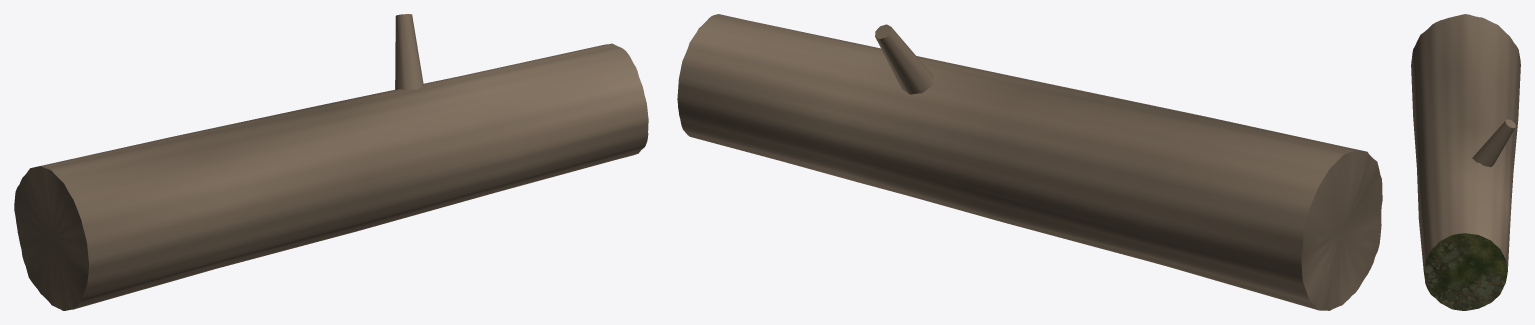
File: fallen-log-v01.glb
3 renders of one model, left to right at view 1: azimuth 30°, elevation 25°; view 2: azimuth 150°, elevation 25°; view 3: azimuth 270°, elevation 25°, orthographic. The views are drawn at different scales.
Parts seen in each view (by area): view 1: fallen-log; view 2: fallen-log; view 3: fallen-log.
Part boxes in pixels (box(x1,y1,x2,y2)): fallen-log: box(14, 14, 648, 310); fallen-log: box(677, 14, 1382, 310); fallen-log: box(1411, 14, 1520, 310).
Bounding box in the file's own units: 4.63 × 1.38 × 1.03.
Materials: 2 (1 with a texture image).
